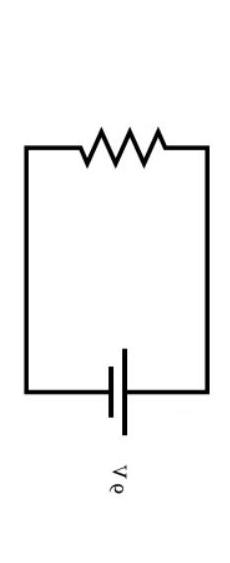resistor: (64, 106, 184, 176)
